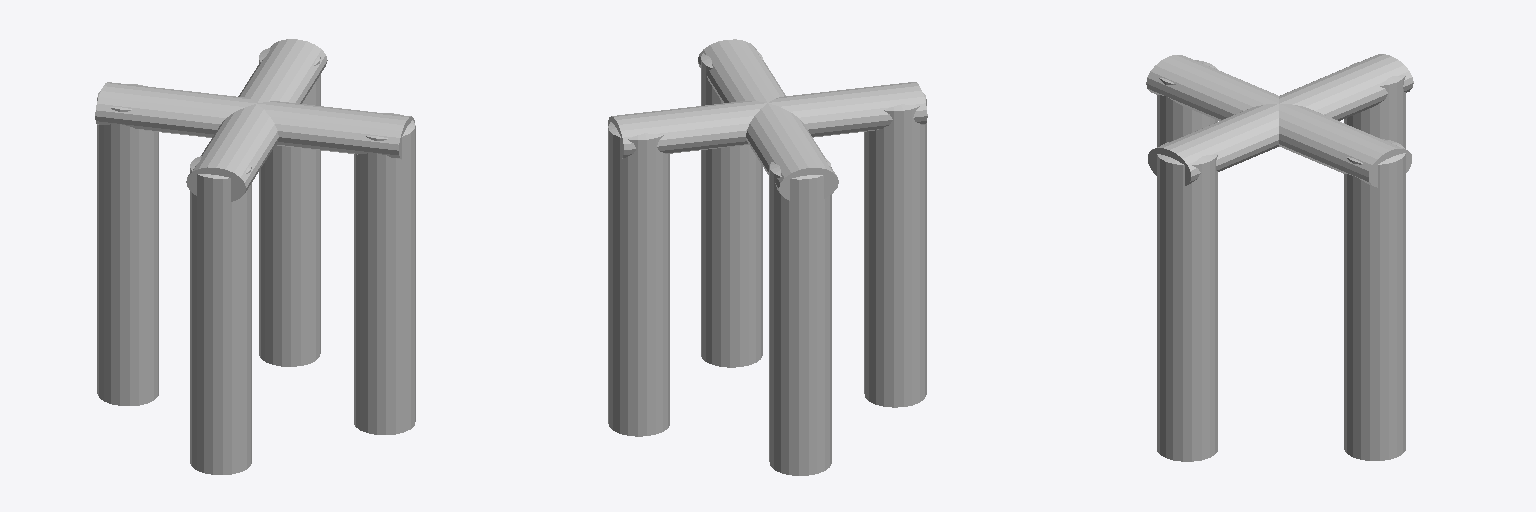
File: BSillaCom.obj
The picture shows the model from 3 angles: view 1: azimuth 30°, elevation 25°; view 2: azimuth 150°, elevation 25°; view 3: azimuth 270°, elevation 25°; orthographic projection.
Visible parts, largest first — view 1: pCylinder3; view 2: pCylinder3; view 3: pCylinder3.
Part boxes in pixels (x1,y1,x2,y2): pCylinder3: (95, 39, 415, 474); pCylinder3: (608, 39, 927, 475); pCylinder3: (1146, 54, 1413, 461).
Size of the model in its own units: 0.802 by 1.01 by 0.8018.